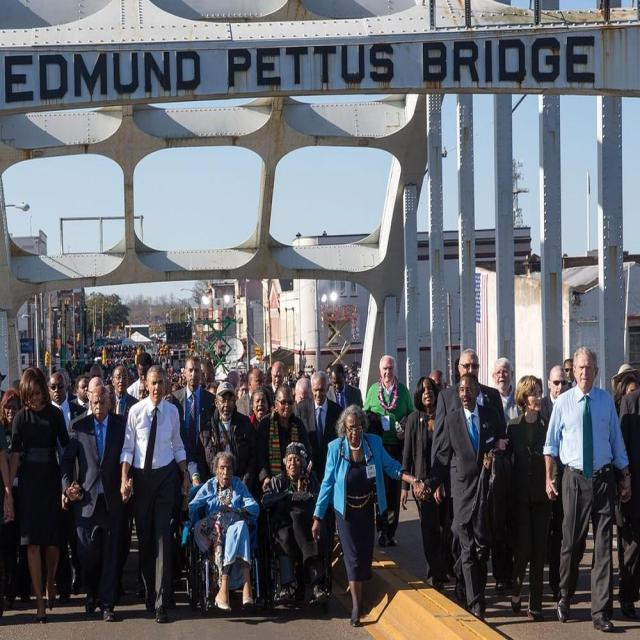body: (310, 403, 432, 630), (539, 342, 633, 636), (411, 369, 509, 625), (428, 346, 512, 610), (114, 361, 194, 627), (1, 184, 300, 253), (58, 384, 136, 624), (6, 362, 73, 626), (495, 374, 560, 618), (290, 369, 349, 609), (189, 450, 260, 616), (360, 352, 417, 550), (400, 376, 451, 593), (259, 440, 327, 600), (538, 362, 570, 603), (194, 380, 259, 490), (253, 381, 315, 495), (0, 386, 29, 611), (64, 332, 232, 370), (170, 355, 217, 486), (617, 386, 640, 622), (46, 370, 88, 433), (232, 365, 274, 419), (489, 356, 522, 424), (325, 361, 364, 411), (109, 363, 139, 422), (610, 362, 640, 421), (125, 351, 153, 401), (264, 361, 286, 415), (248, 384, 272, 432), (67, 374, 90, 421), (326, 358, 361, 387), (292, 376, 314, 417), (164, 369, 187, 402), (127, 369, 148, 399), (200, 371, 220, 395), (105, 370, 116, 410), (285, 370, 313, 384), (564, 357, 576, 387), (262, 366, 272, 384), (238, 368, 247, 378)
